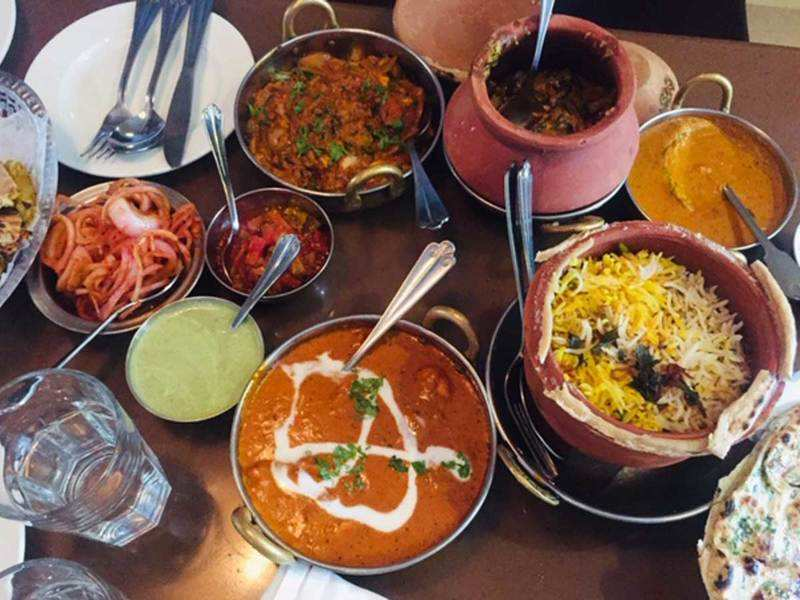butter_chicken: (255, 337, 484, 544)
